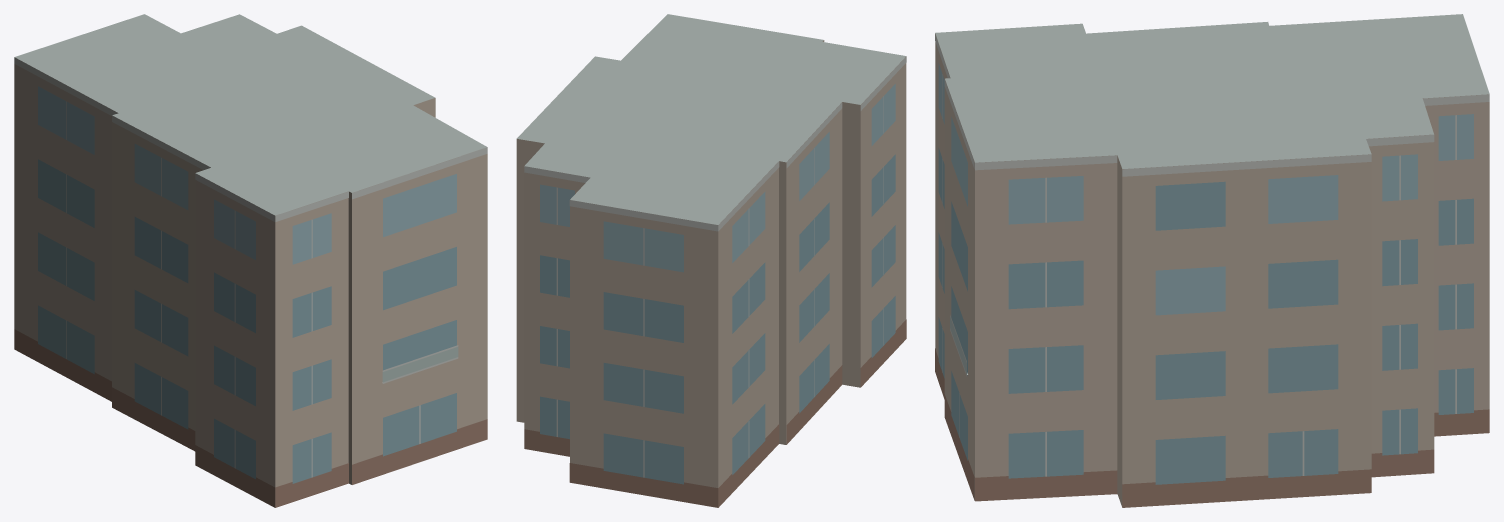
File: survey-upis-32735242.glb
3 views of the same model, side by side, from view 1: azimuth 30°, elevation 25°; view 2: azimuth 150°, elevation 25°; view 3: azimuth 270°, elevation 25° (orthographic). The views are drawn at different scales.
Parts seen in each view (by area): view 1: survey-upis-32735242.tmp; view 2: survey-upis-32735242.tmp; view 3: survey-upis-32735242.tmp.
Part boxes in pixels (x1=…): survey-upis-32735242.tmp: x1=14, y1=14, x2=487, y2=507; survey-upis-32735242.tmp: x1=516, y1=14, x2=906, y2=507; survey-upis-32735242.tmp: x1=935, y1=14, x2=1489, y2=507.
Bounding box in the file's own units: 10.62 × 10.8 × 16.04.
